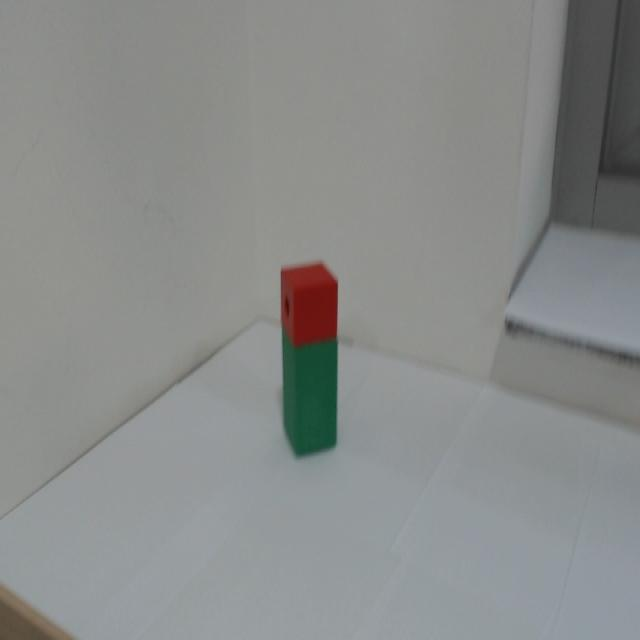cube: (266, 255, 359, 342)
